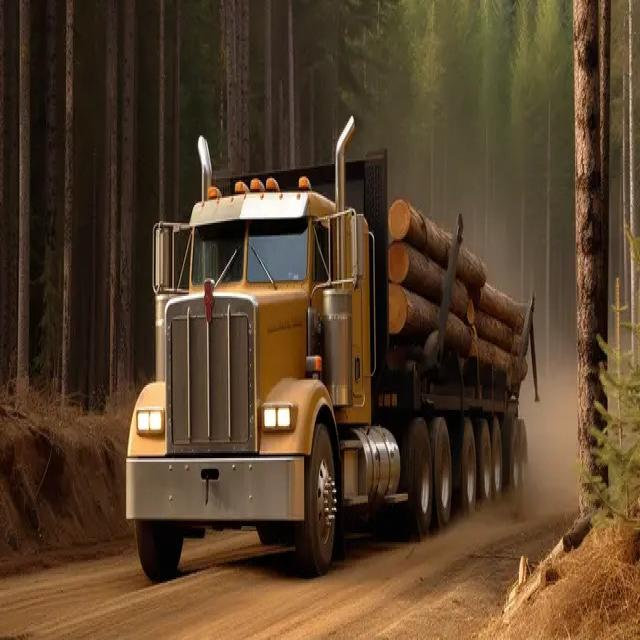Truck: (125, 128, 532, 572)
